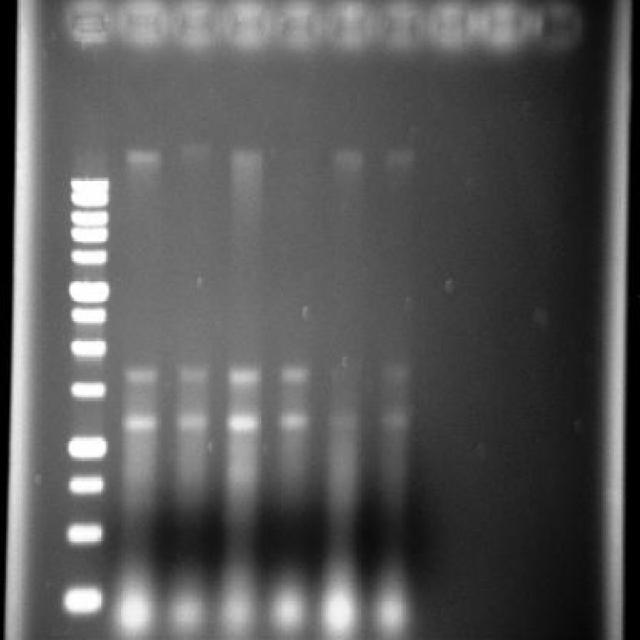B: (316, 584, 361, 638), (268, 586, 306, 637), (371, 590, 414, 635), (112, 589, 152, 634), (165, 592, 208, 632), (214, 597, 254, 637), (271, 408, 314, 434), (119, 408, 161, 434), (225, 360, 262, 388), (121, 362, 161, 387), (226, 146, 268, 168), (122, 146, 164, 168), (173, 411, 212, 434), (278, 360, 312, 386), (224, 411, 262, 434), (174, 362, 212, 384), (380, 146, 418, 168), (330, 146, 368, 168), (323, 410, 360, 432), (378, 412, 409, 430), (380, 366, 411, 384)
L: (51, 0, 600, 71)
M: (55, 137, 114, 626)
P: (62, 582, 105, 615), (65, 432, 108, 460), (65, 278, 110, 304), (63, 522, 106, 548), (65, 472, 106, 496), (68, 336, 107, 361), (68, 304, 110, 326), (68, 172, 112, 192), (68, 378, 107, 400), (68, 225, 110, 244), (68, 208, 110, 227), (69, 248, 109, 267), (68, 190, 110, 208)
Pc: (529, 0, 586, 58), (476, 0, 529, 60), (267, 0, 323, 55), (322, 0, 375, 57), (422, 0, 475, 55), (374, 0, 423, 55), (116, 0, 170, 49), (60, 0, 114, 48), (168, 0, 217, 52), (218, 0, 267, 52)
